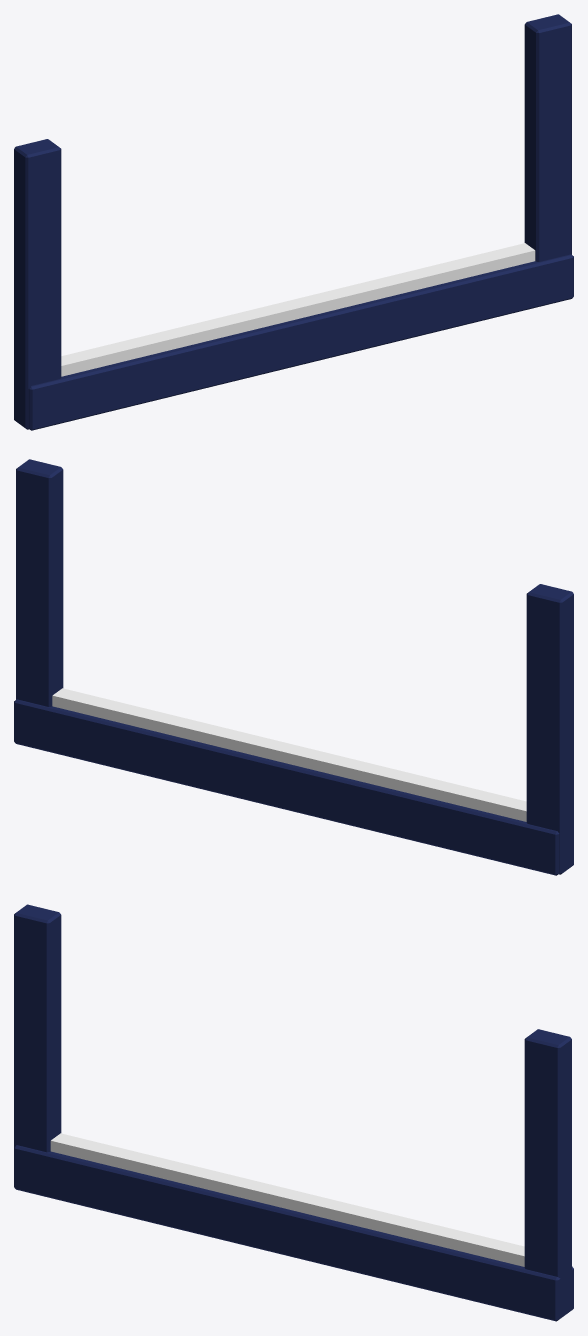
File: 3D_GateNormal.fbx
3 views of the same model, one above another, from view 1: azimuth 30°, elevation 25°; view 2: azimuth 150°, elevation 25°; view 3: azimuth 330°, elevation 25° (orthographic).
Visible parts, largest first — view 1: 3D_GateNormal; view 2: 3D_GateNormal; view 3: 3D_GateNormal.
Boxes of the visible parts, x1=… form: 3D_GateNormal: x1=14, y1=14, x2=573, y2=430; 3D_GateNormal: x1=14, y1=459, x2=573, y2=875; 3D_GateNormal: x1=14, y1=904, x2=573, y2=1321.
Bounding box in the file's own units: 325 × 156 × 18.21.
Materials: 1 (1 with a texture image).
